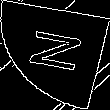N_E: (21, 30, 89, 80)
